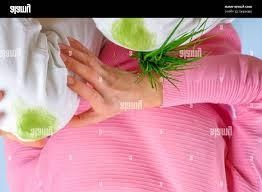earth: (110, 18, 153, 49), (17, 109, 55, 136)
